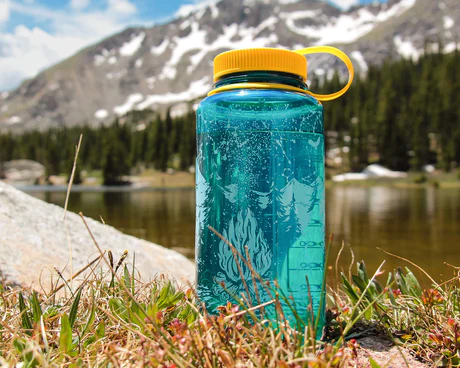bottle: (195, 42, 355, 347)
